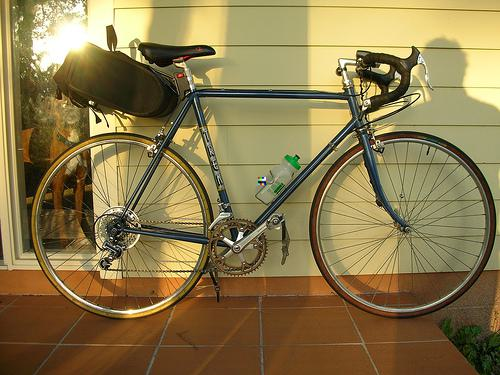car: (27, 41, 497, 322)
